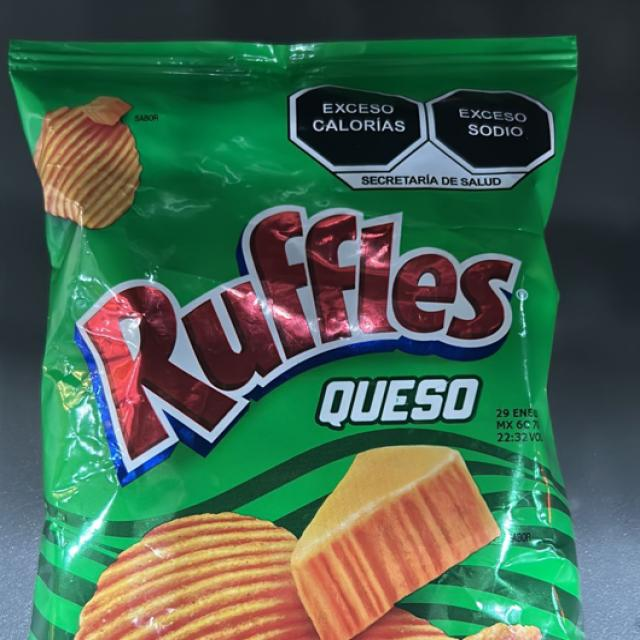rufflesQueso: (46, 43, 560, 634)
